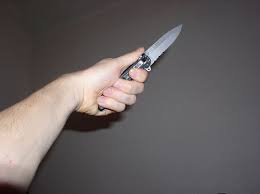knife: (93, 20, 188, 118)
